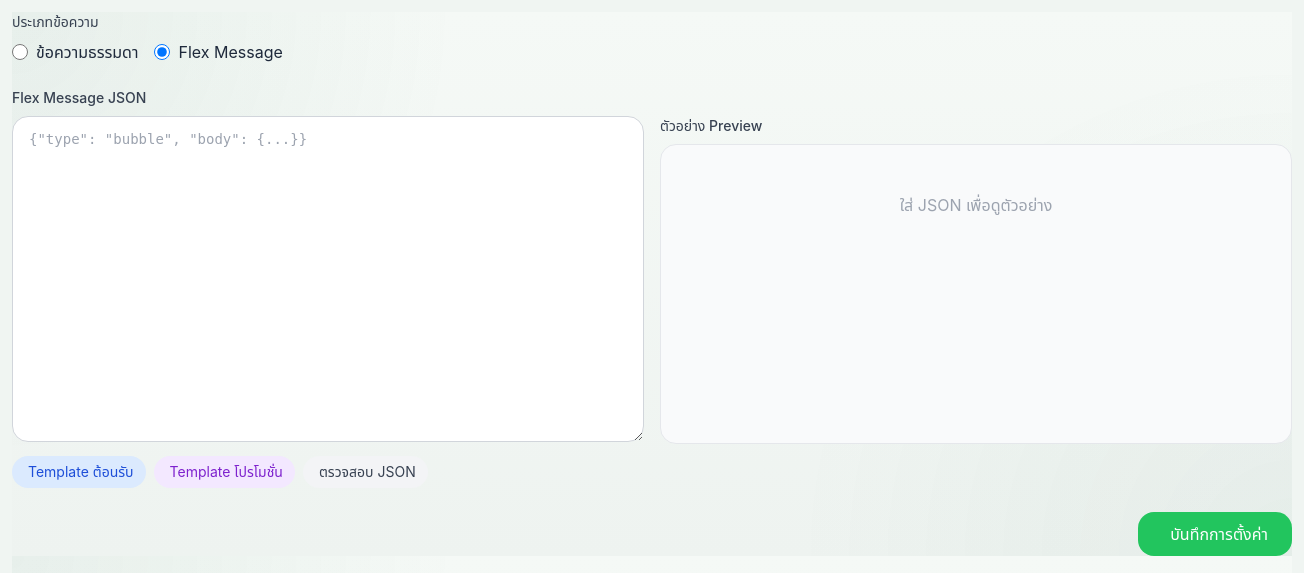
Scenario: WelcomeMessageForm › loads the "welcome" template into the textarea and preview on click
Click the button "Template ต้อนรับ" at [79, 472], box [12,456,146,488]
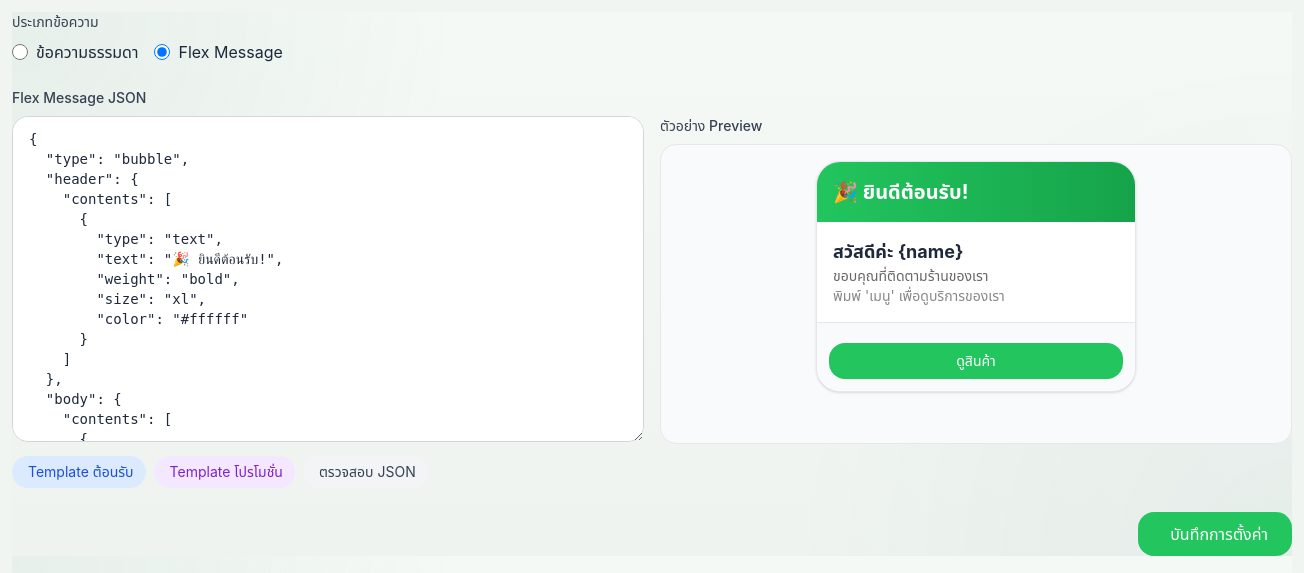
Check: the text "สวัสดีค่ะ {name}" is shown, box [833,241,963,262]
